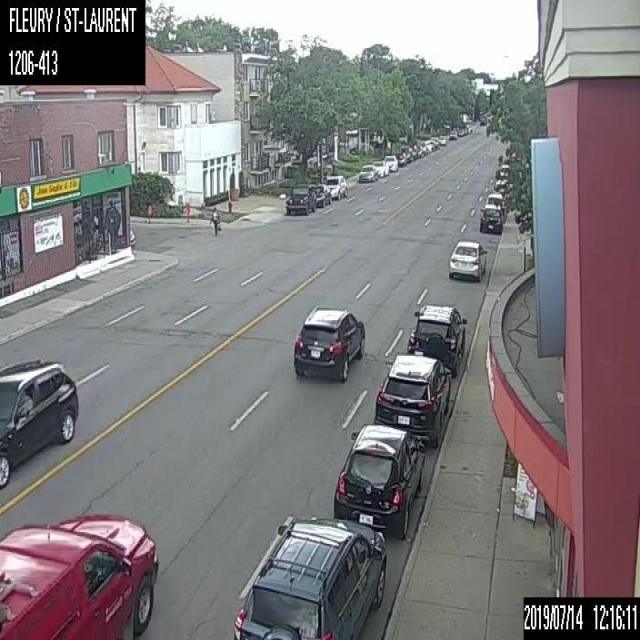construction: (183, 202, 190, 222), (146, 202, 152, 218)
pedestrian: (207, 205, 221, 235)
vehicle: (0, 511, 159, 638), (230, 514, 386, 638), (333, 424, 425, 540), (0, 357, 79, 491), (374, 352, 451, 447), (291, 304, 364, 381), (406, 303, 465, 375), (447, 238, 488, 278), (284, 182, 316, 215), (479, 203, 504, 233), (322, 174, 346, 200), (315, 182, 331, 207), (358, 162, 378, 182), (371, 160, 389, 177), (483, 192, 505, 205), (382, 154, 398, 170), (395, 152, 406, 166), (0, 590, 2, 638), (448, 130, 457, 140)
